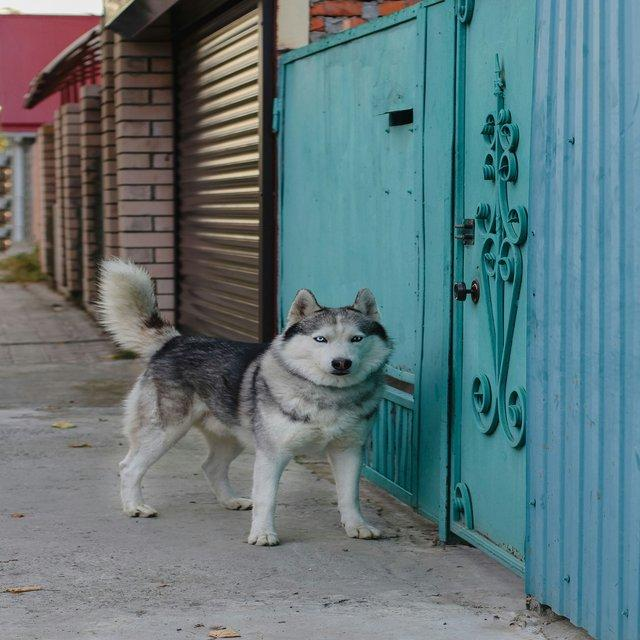husky: (91, 255, 394, 546)
